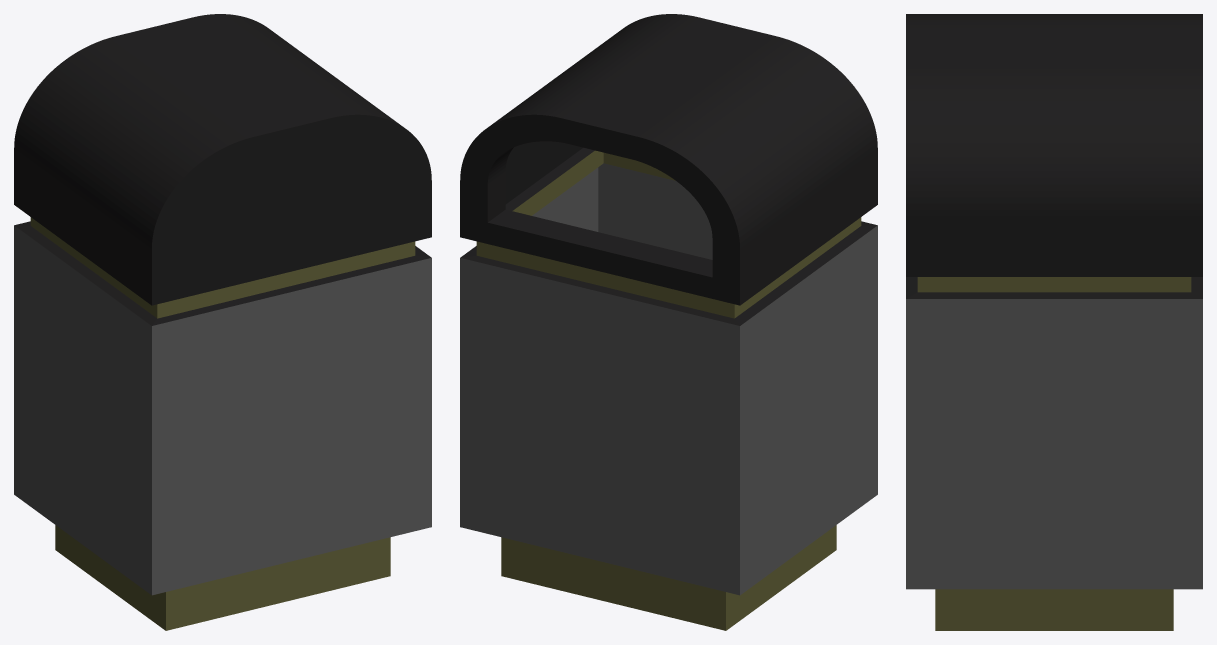
File: lixo.fbx
The picture shows the model from 3 angles, left to right: view 1: azimuth 30°, elevation 25°; view 2: azimuth 150°, elevation 25°; view 3: azimuth 270°, elevation 25°; orthographic projection. The views are drawn at different scales.
Parts seen in each view (by area): view 1: Cube.088; view 2: Cube.088; view 3: Cube.088.
Part boxes in pixels (left/top/right/bottom): Cube.088: left=14, top=14, right=431, bottom=630; Cube.088: left=460, top=14, right=877, bottom=630; Cube.088: left=906, top=14, right=1202, bottom=630.
Size of the model in its own units: 362 by 600 by 308.
